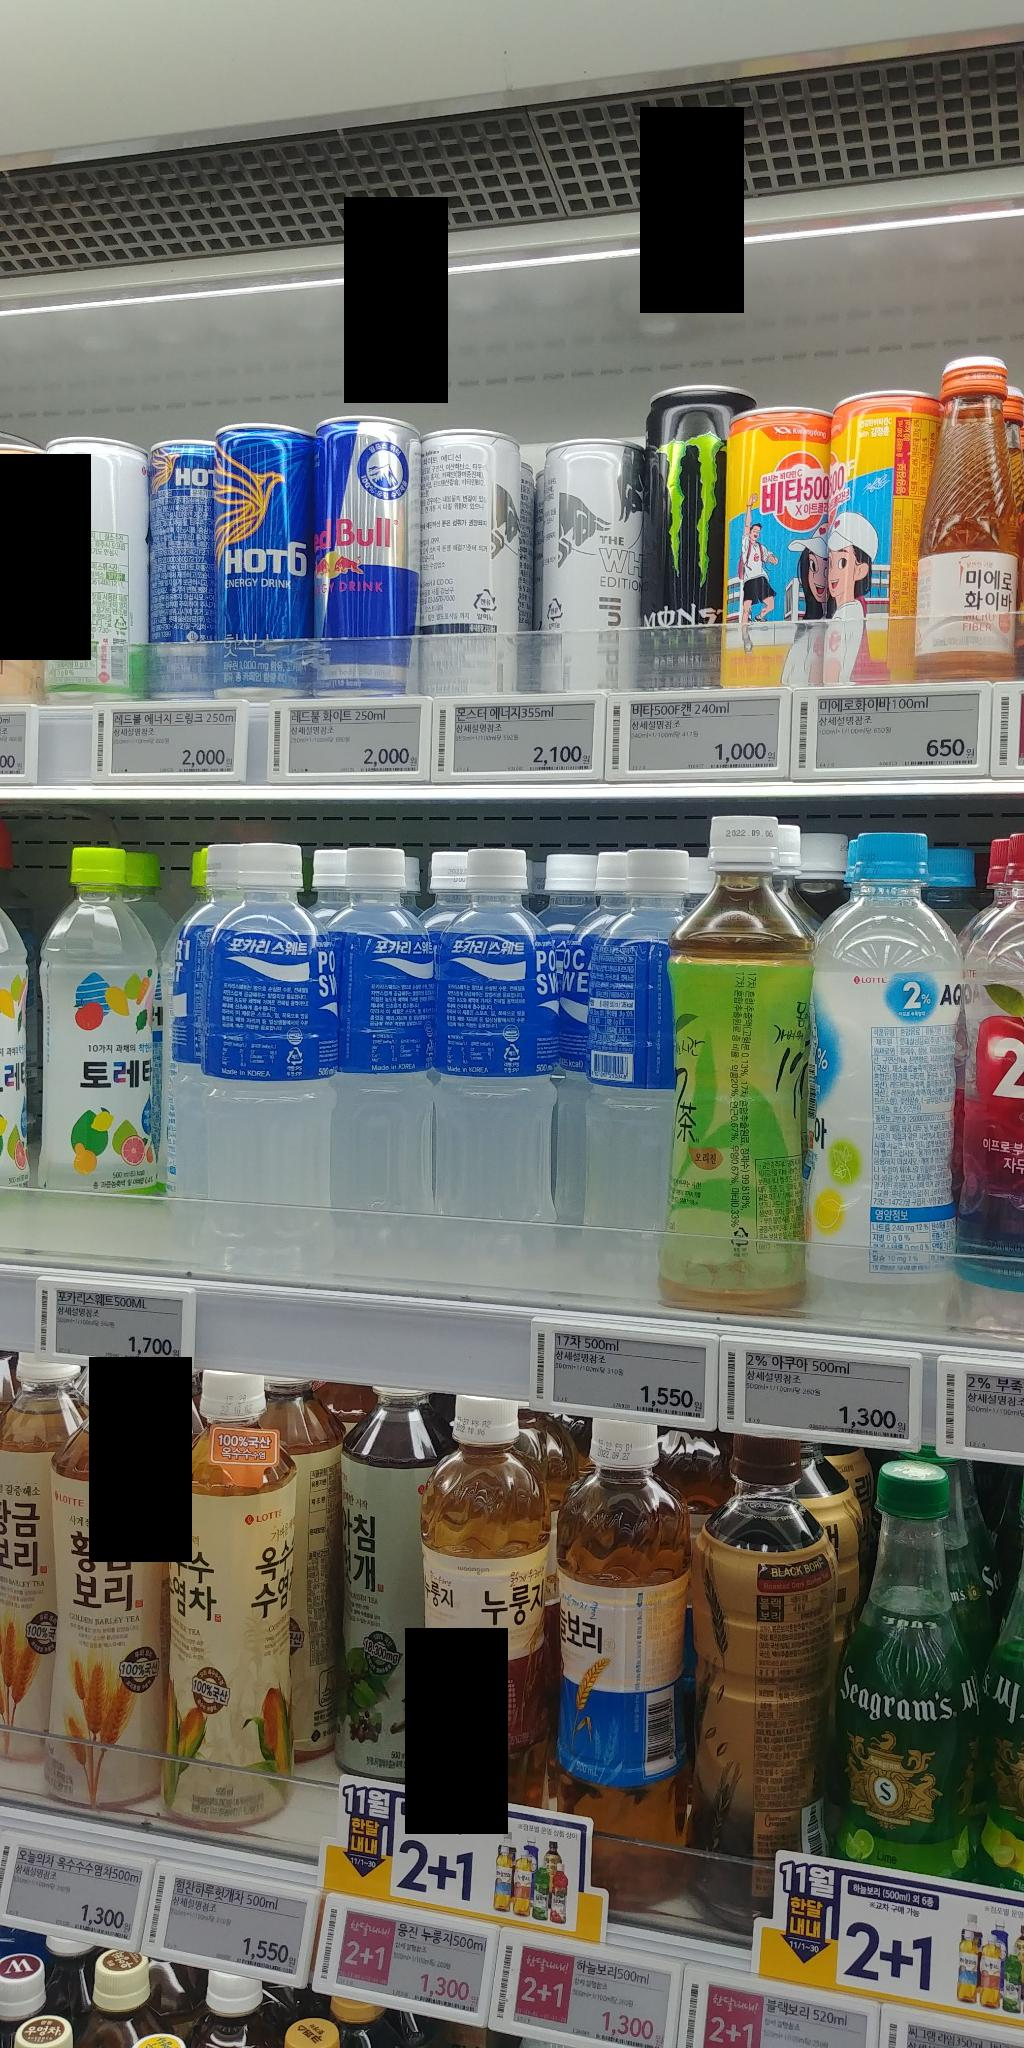haneulbori: (542, 1400, 704, 1907)
hotsix_org: (205, 415, 334, 708), (137, 423, 234, 718)
pocarisweat: (185, 836, 346, 1284), (419, 846, 559, 1277), (580, 841, 696, 1289), (323, 840, 443, 1263)
